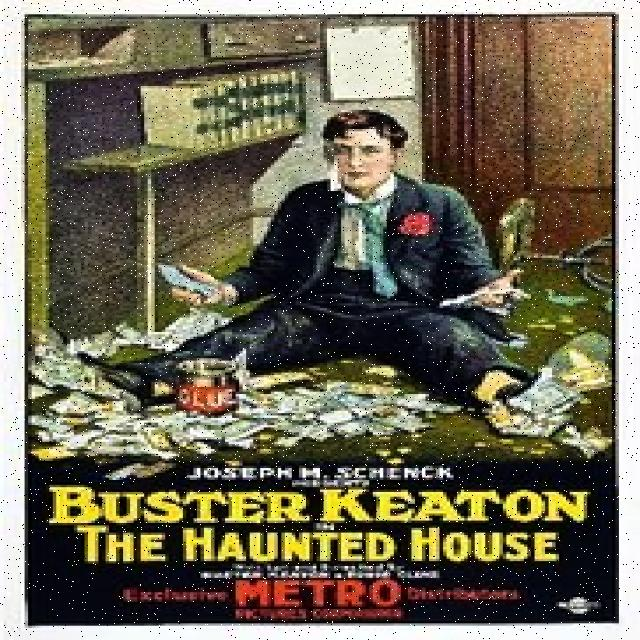movie-judul: (32, 477, 606, 582)
picture: (136, 103, 555, 436)
